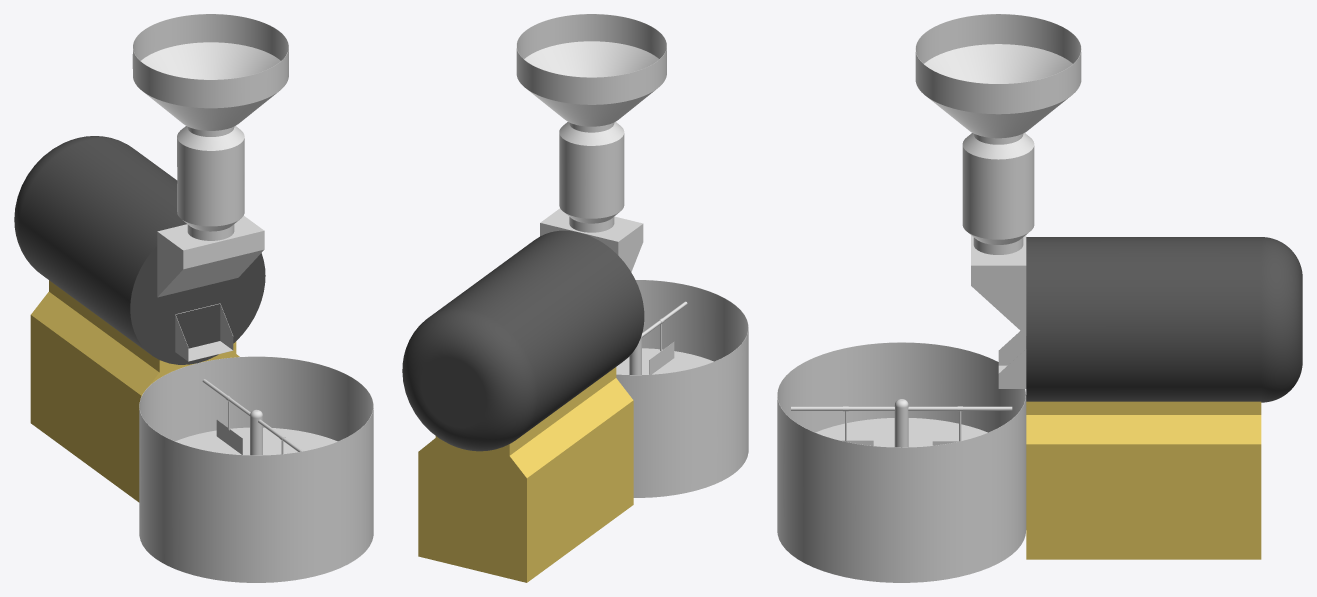
File: Malt_Roaster.glb
The picture shows the model from 3 angles, left to right: view 1: azimuth 30°, elevation 25°; view 2: azimuth 150°, elevation 25°; view 3: azimuth 270°, elevation 25°; orthographic projection. The views are drawn at different scales.
Visible parts, largest first — view 1: Bin, Roasting Body, Hopper, Base, Hopper Connnector, Chute, Body1, Body1.002; view 2: Roasting Body, Base, Bin, Hopper, Hopper Connnector, Body1, Body1.001; view 3: Bin, Roasting Body, Base, Hopper, Hopper Connnector, Body1, Chute.
Part boxes in pixels (<box>): Bin: <box>139,356,373,582</box>; Roasting Body: <box>14,136,265,364</box>; Hopper: <box>132,14,288,240</box>; Base: <box>30,280,239,502</box>; Hopper Connnector: <box>157,216,264,297</box>; Chute: <box>175,303,233,361</box>; Body1: <box>202,379,303,455</box>; Body1.002: <box>216,395,242,454</box>; Roasting Body: <box>402,230,644,451</box>; Base: <box>418,367,633,582</box>; Bin: <box>616,280,748,497</box>; Hopper: <box>516,14,666,232</box>; Hopper Connnector: <box>540,208,643,272</box>; Body1: <box>629,301,687,374</box>; Body1.001: <box>649,318,674,374</box>; Bin: <box>777,342,1026,582</box>; Roasting Body: <box>1026,237,1302,402</box>; Base: <box>1026,401,1261,559</box>; Hopper: <box>915,14,1081,254</box>; Hopper Connnector: <box>971,235,1026,335</box>; Body1: <box>791,399,1012,447</box>; Chute: <box>998,331,1026,388</box>.
Size of the model in its own units: 1.4 by 3 by 2.96.
